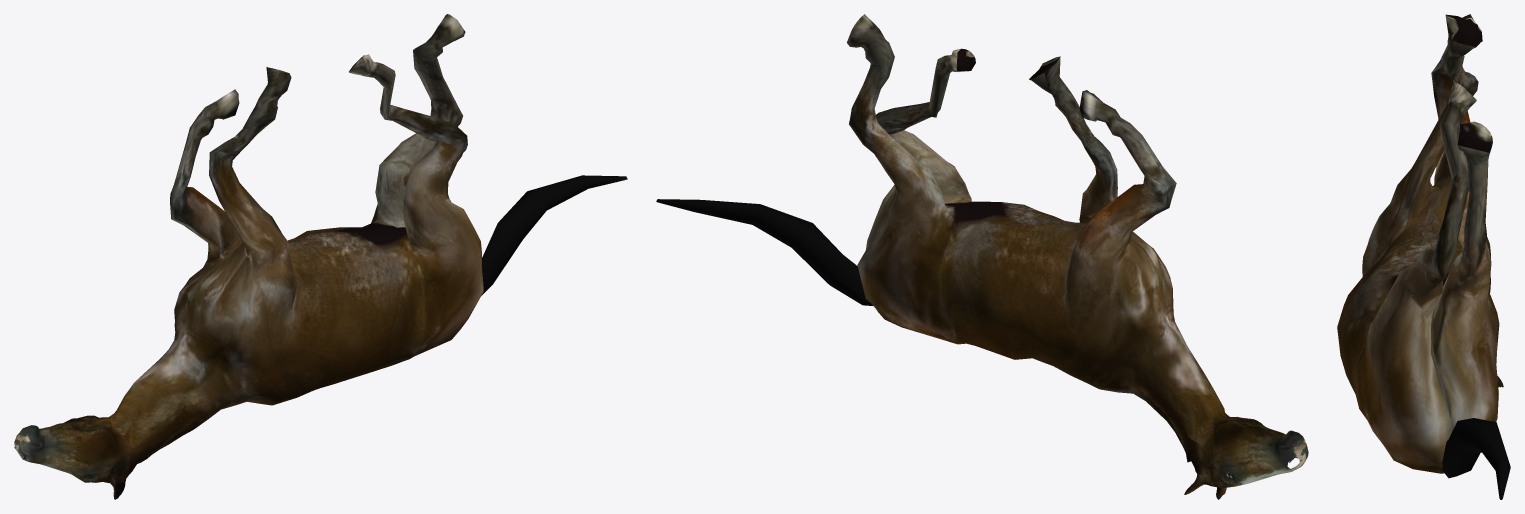
File: horse_dead_2.glb
The picture shows the model from 3 angles, left to right: view 1: azimuth 30°, elevation 25°; view 2: azimuth 150°, elevation 25°; view 3: azimuth 270°, elevation 25°; orthographic projection. The views are drawn at different scales.
Size of the model in its own units: 157 by 95.24 by 31.13.
Materials: 1 (1 with a texture image).
